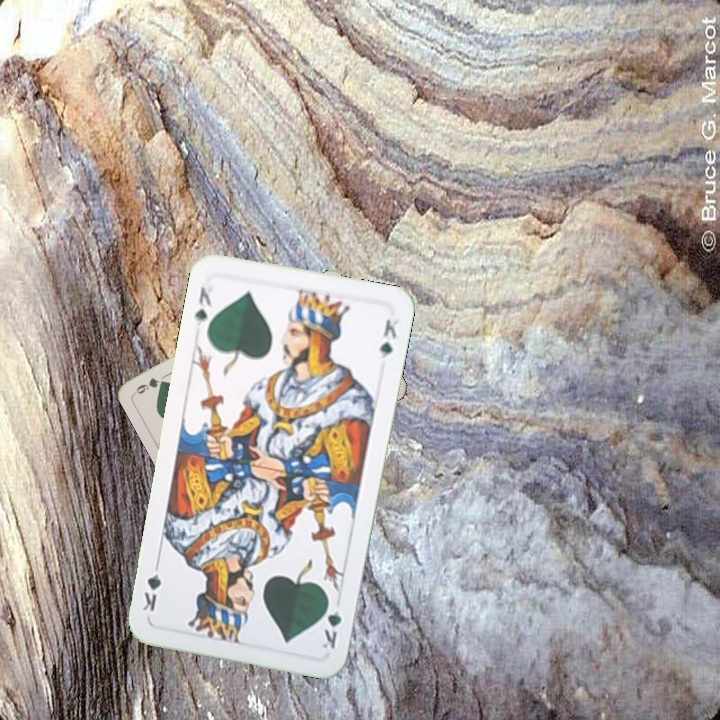GK: (318, 594, 345, 652), (190, 282, 215, 328)
